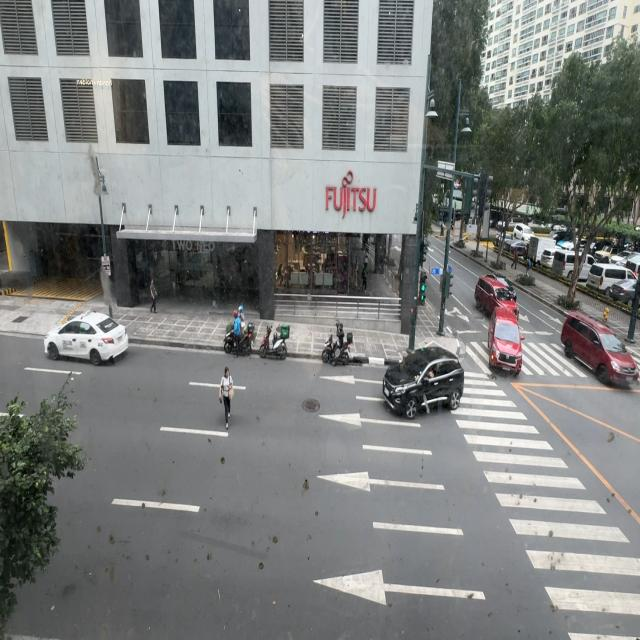jaywalking: (219, 367, 234, 430)
pedestrain: (150, 279, 158, 313), (513, 246, 518, 268)
